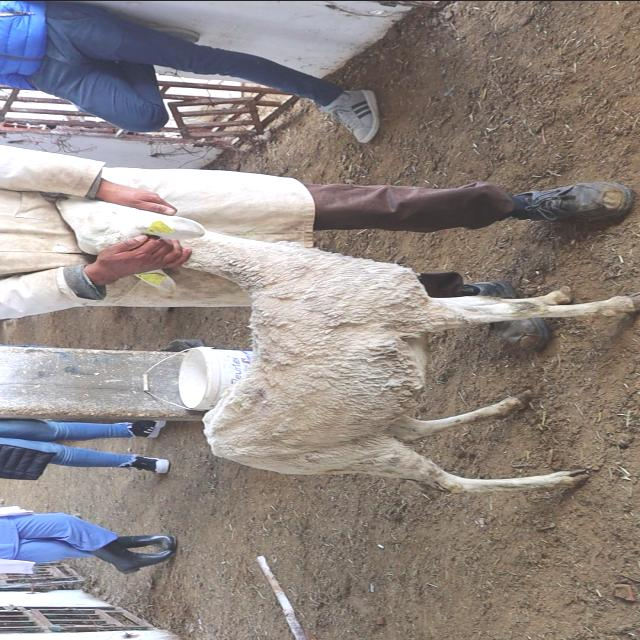Score_1: (59, 199, 638, 491)
